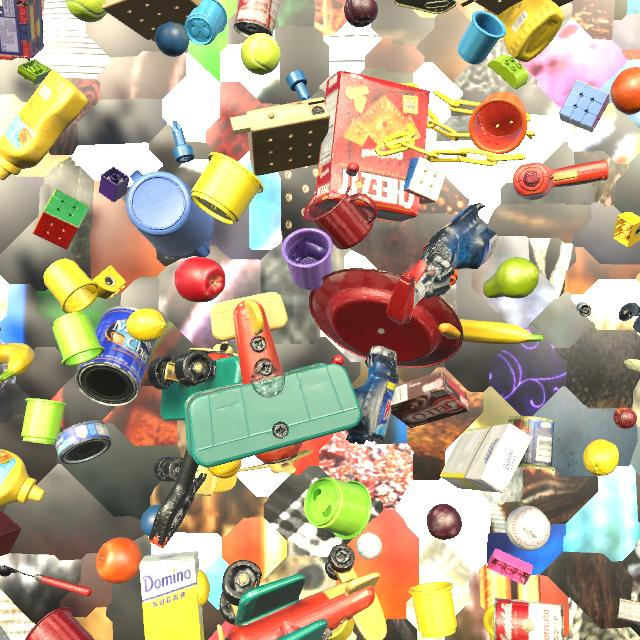ycb_002_master_chef_can: (75, 306, 156, 406)
ycb_003_cracker_box: (314, 70, 430, 222)
ycb_004_sugar_box: (440, 423, 532, 493), (139, 551, 204, 640)
ycb_005_tomato_soup_can: (493, 598, 564, 640), (234, 0, 281, 38)
ycb_006_mustard_bottle: (0, 70, 88, 180), (484, 0, 564, 62), (0, 449, 45, 507)
ycb_007_tuna_fish_can: (54, 420, 111, 464)
ycb_008_pudding_box: (390, 371, 469, 428), (617, 598, 640, 625)
ycb_009_gelatin_box: (0, 625, 10, 640)
ycb_010_potted_meat_can: (508, 416, 554, 471), (394, 0, 457, 14)
ycb_011_banana: (439, 319, 544, 344), (0, 343, 35, 383)
ycb_013_apple: (174, 257, 226, 302)
ycb_014_lemon: (126, 308, 167, 342), (583, 439, 619, 476), (197, 570, 210, 607)
ycb_015_peach: (207, 459, 242, 478)
ycb_016_pear: (483, 257, 539, 298)
ycb_017_orange: (96, 537, 142, 584), (611, 67, 640, 115)
ycb_018_plum: (427, 504, 462, 540), (344, 0, 378, 27)
